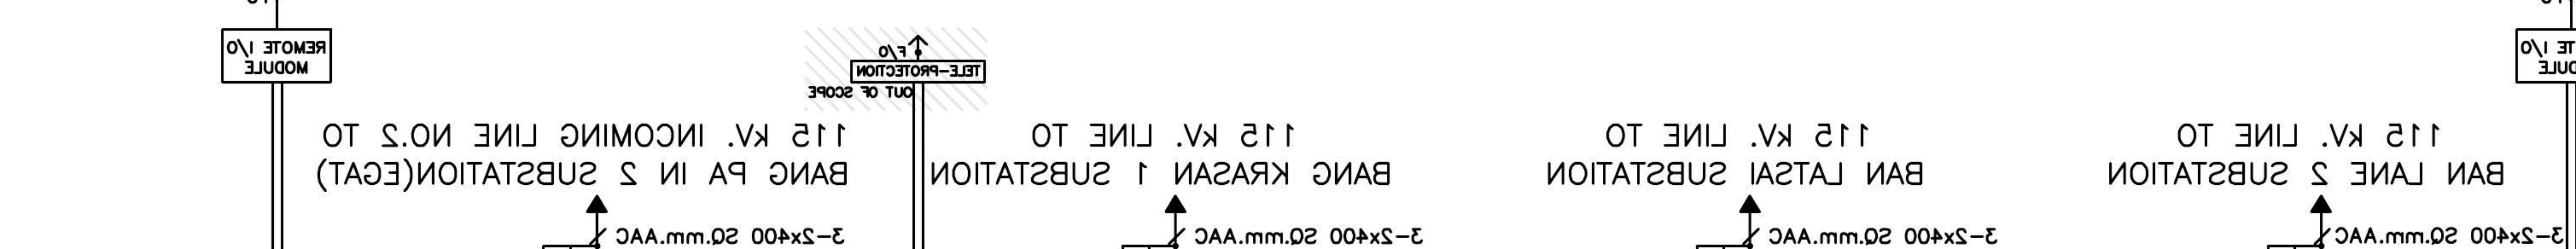remote_io_module: (220, 28, 332, 84)
tele_protection: (849, 59, 986, 85)
